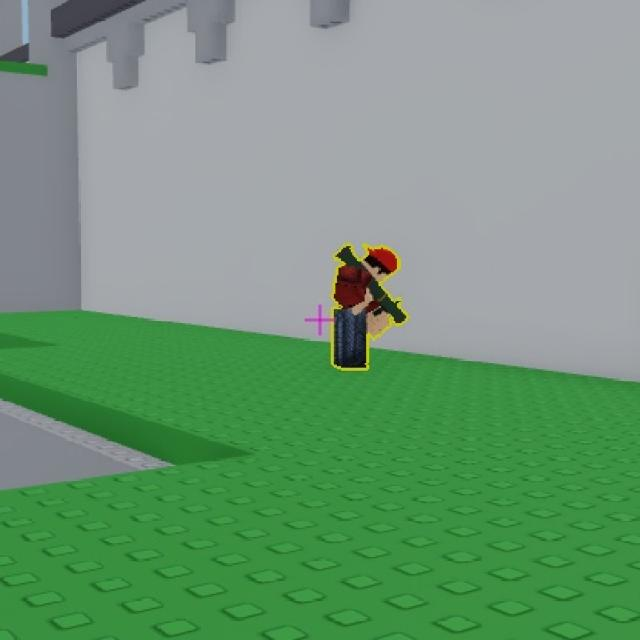player: (324, 238, 392, 368)
